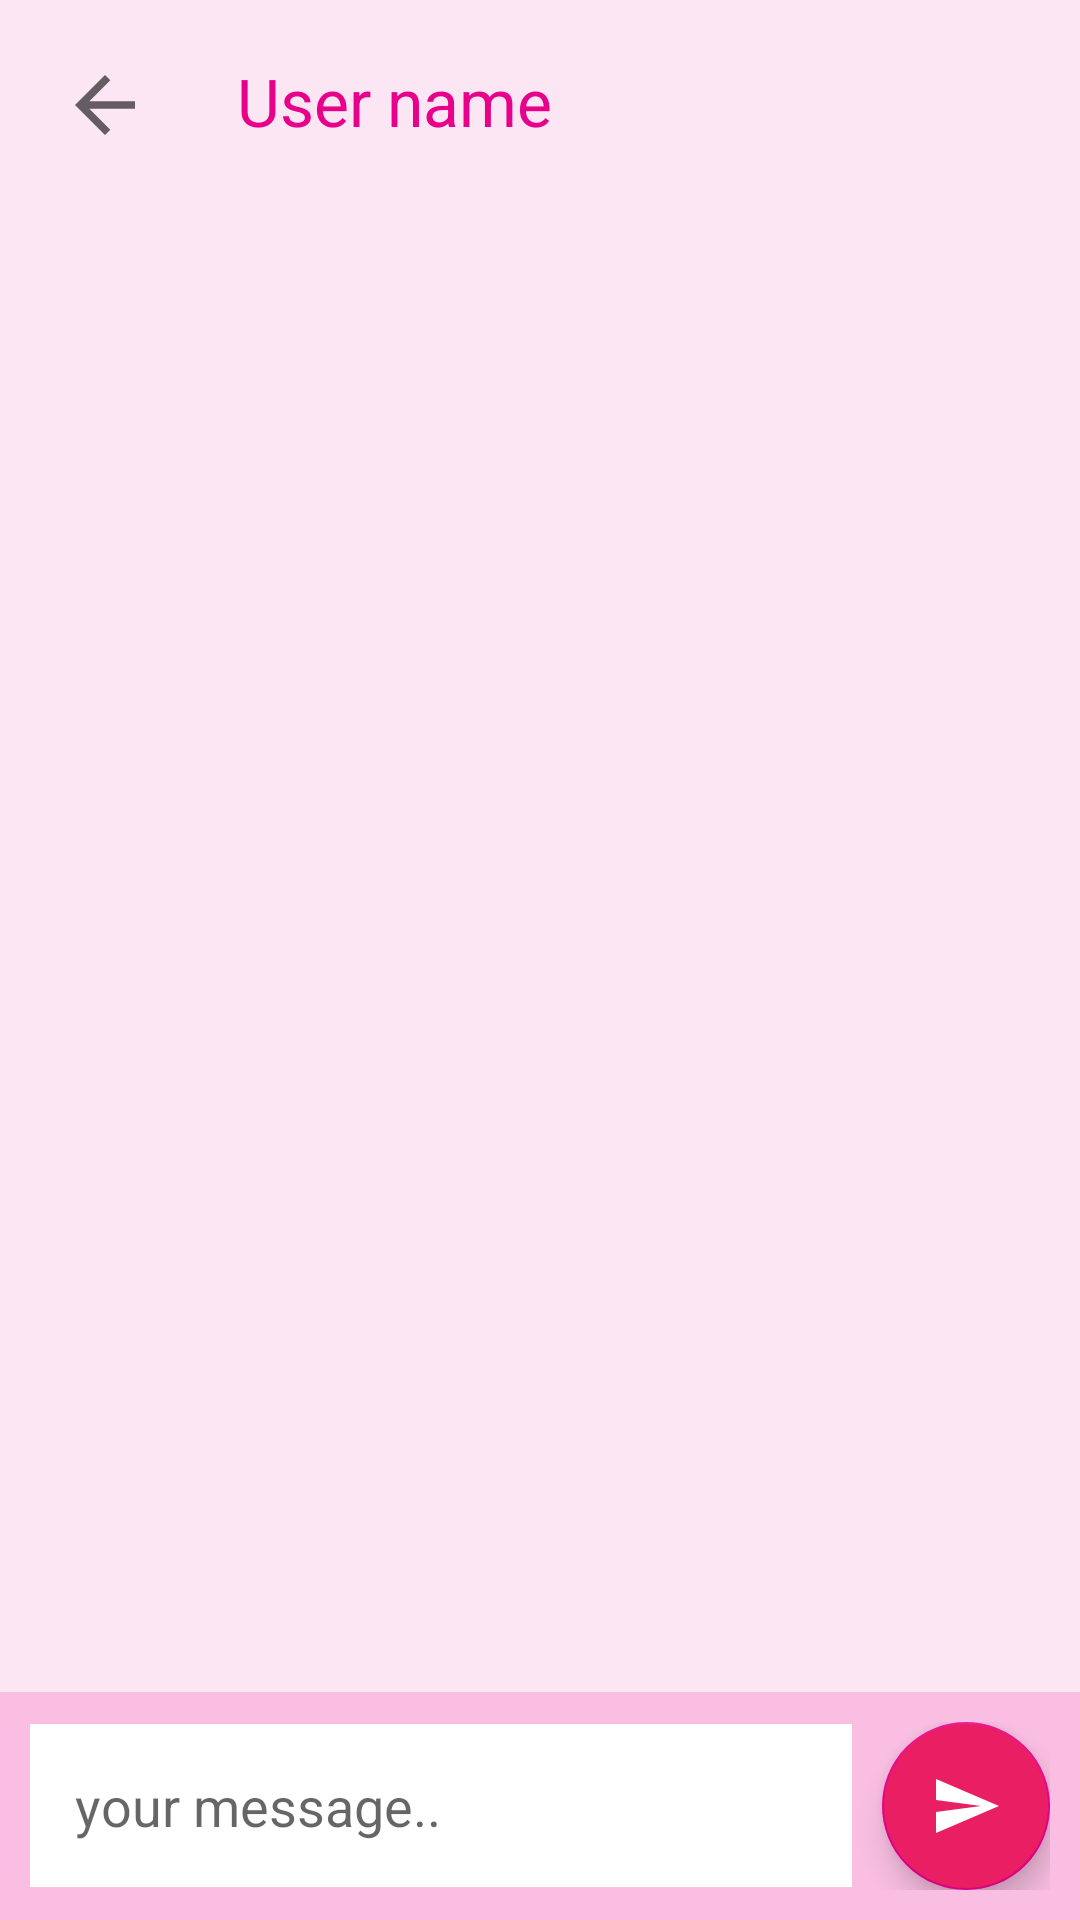

Where icons sit on this 1080 x 1920 app screen, as bbox=[x1, y1, x2, y2]:
arrow back: bbox=[75, 75, 135, 135]
send: bbox=[882, 1722, 1050, 1890]
